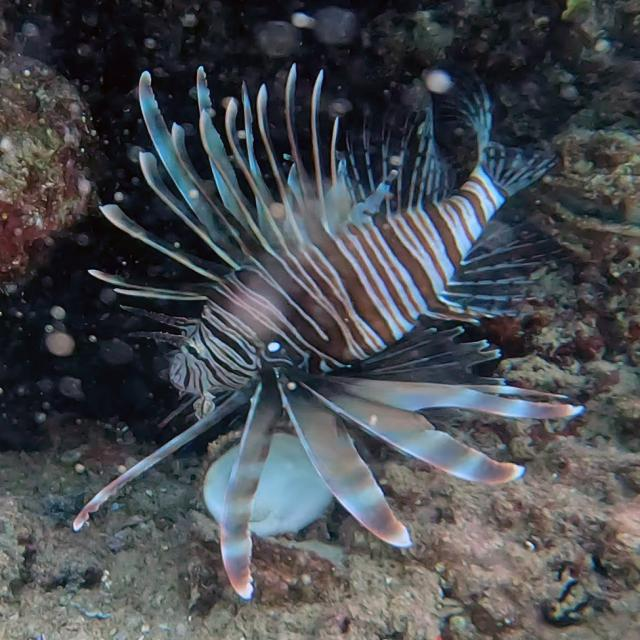Aslan Baligi: (70, 59, 586, 600)
